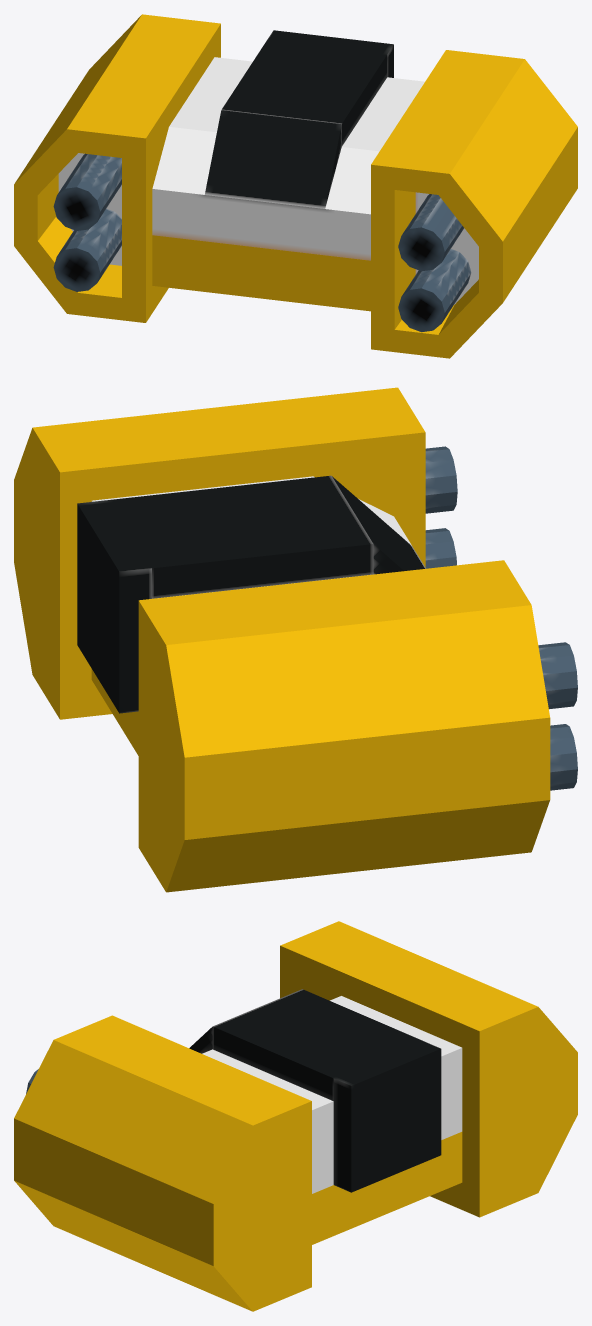
File: doubleTurret.glb
The picture shows the model from 3 angles, top to bottom: view 1: azimuth 30°, elevation 25°; view 2: azimuth 150°, elevation 25°; view 3: azimuth 270°, elevation 25°; orthographic projection. The views are drawn at different scales.
Visible parts, largest first — view 1: Cube.001; view 2: Cube.001; view 3: Cube.001.
Boxes of the visible parts, x1,y1,x2,y2 form: Cube.001: (14, 14, 577, 358); Cube.001: (14, 387, 577, 892); Cube.001: (14, 921, 577, 1311).
Size of the model in its own units: 1.66 by 0.6062 by 1.66.
Materials: 2 (1 with a texture image).
